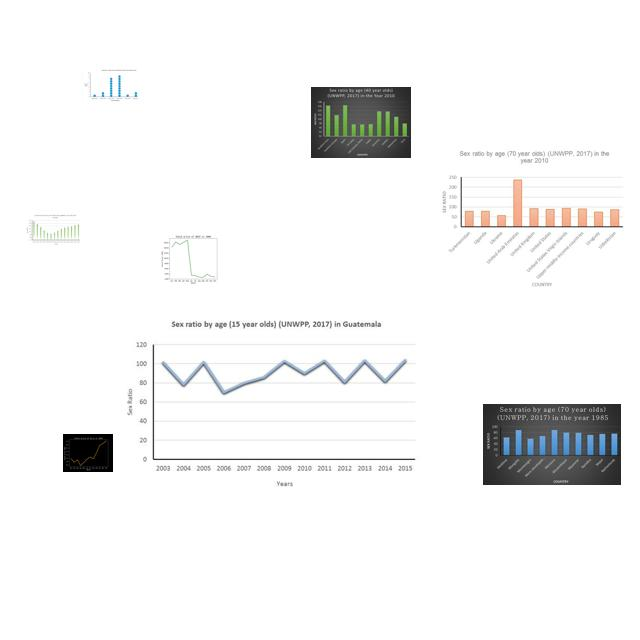Graph: (117, 315, 426, 494), (436, 149, 626, 287), (483, 404, 621, 485), (311, 87, 411, 158), (157, 232, 228, 285), (63, 434, 113, 472), (25, 213, 81, 246), (82, 69, 138, 102)
